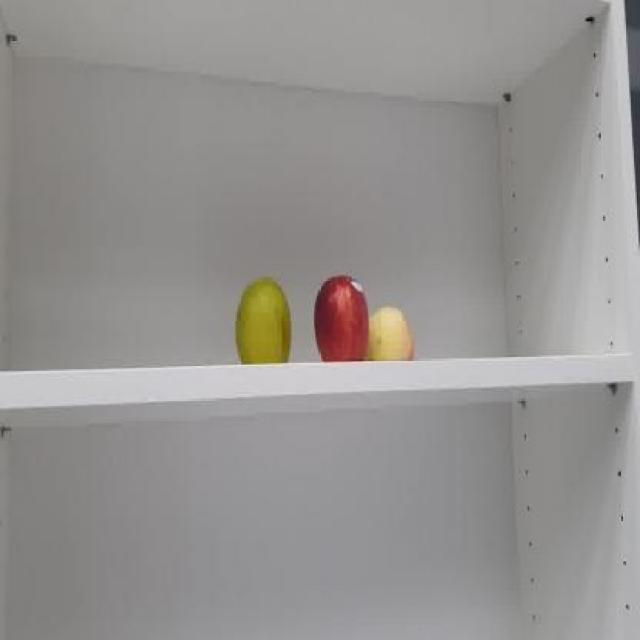Fresh Apple: (314, 267, 362, 369), (241, 284, 292, 361), (369, 308, 412, 360)
